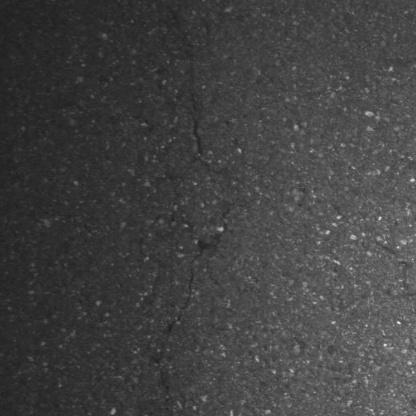Cracks: (136, 1, 236, 416)
